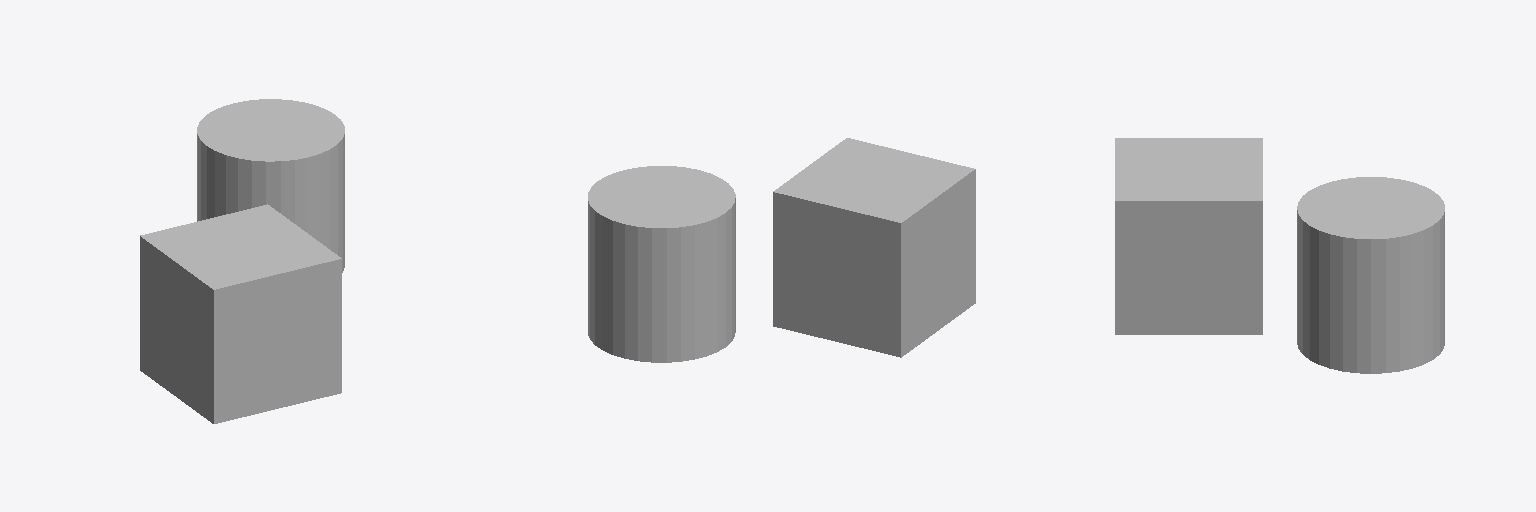
3 views of the same model, side by side, from view 1: azimuth 30°, elevation 25°; view 2: azimuth 150°, elevation 25°; view 3: azimuth 270°, elevation 25° (orthographic).
Parts seen in each view (by area): view 1: bruh_Cube, Cylinder; view 2: bruh_Cube, Cylinder; view 3: bruh_Cube, Cylinder.
Boxes of the visible parts, box(x1,y1,x2,y2) form: bruh_Cube: box(140, 204, 341, 423); Cylinder: box(197, 99, 344, 272); bruh_Cube: box(773, 138, 975, 357); Cylinder: box(588, 166, 735, 362); bruh_Cube: box(1115, 138, 1262, 334); Cylinder: box(1297, 177, 1444, 373).
Size of the model in its own units: 3.89 by 2.3 by 4.46.